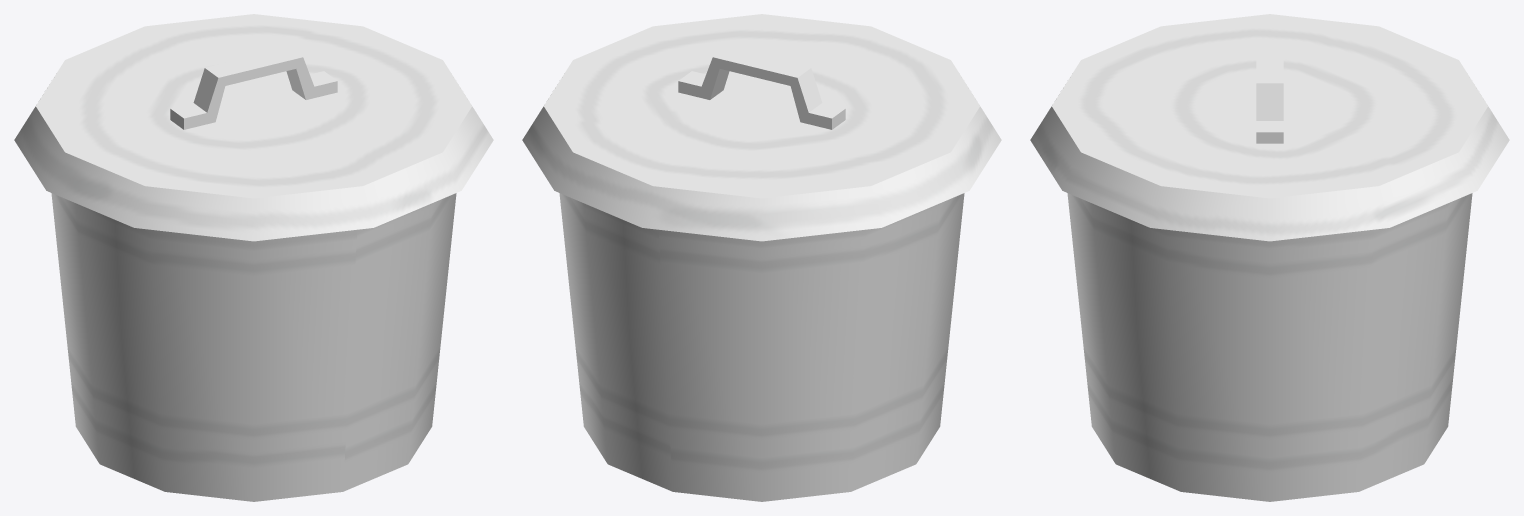
The model's file is obj_TrashCan.fbx.
3 renders of one model, left to right at view 1: azimuth 30°, elevation 25°; view 2: azimuth 150°, elevation 25°; view 3: azimuth 270°, elevation 25°, orthographic.
Visible parts, largest first — view 1: Cylinder; view 2: Cylinder; view 3: Cylinder.
Part boxes in pixels (box(x1,y1,x2,y2)): Cylinder: box(14, 14, 493, 501); Cylinder: box(522, 14, 1001, 501); Cylinder: box(1030, 14, 1509, 501).
Size of the model in its own units: 0.4328 by 0.3626 by 0.4328.
Materials: 1 (1 with a texture image).
